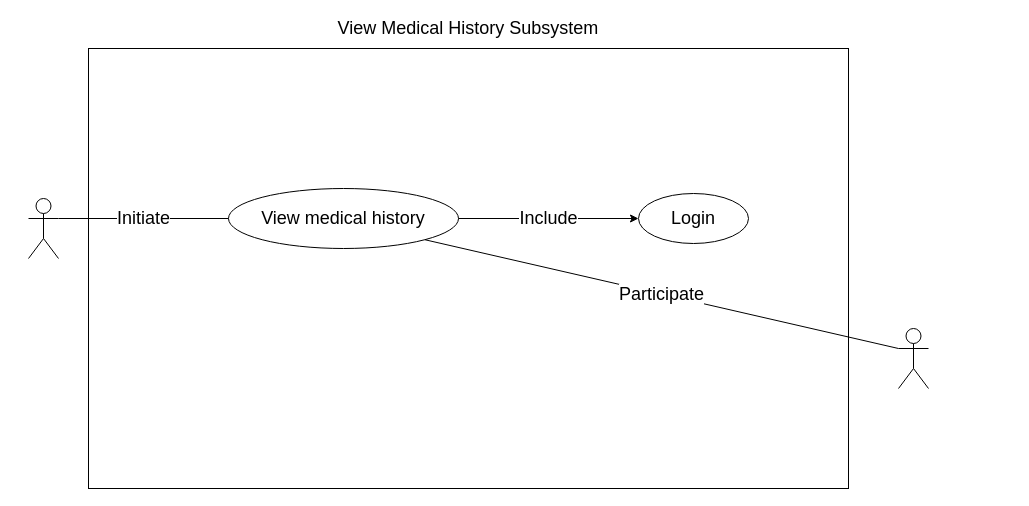
Image size: 1029x506. Some labels were removed from this diagram. Here are the shapes that lost their labels. From the top down, the centre of each, then its label:
At point 43,228: "Doctor".
At point 913,358: "Medical history manager".
